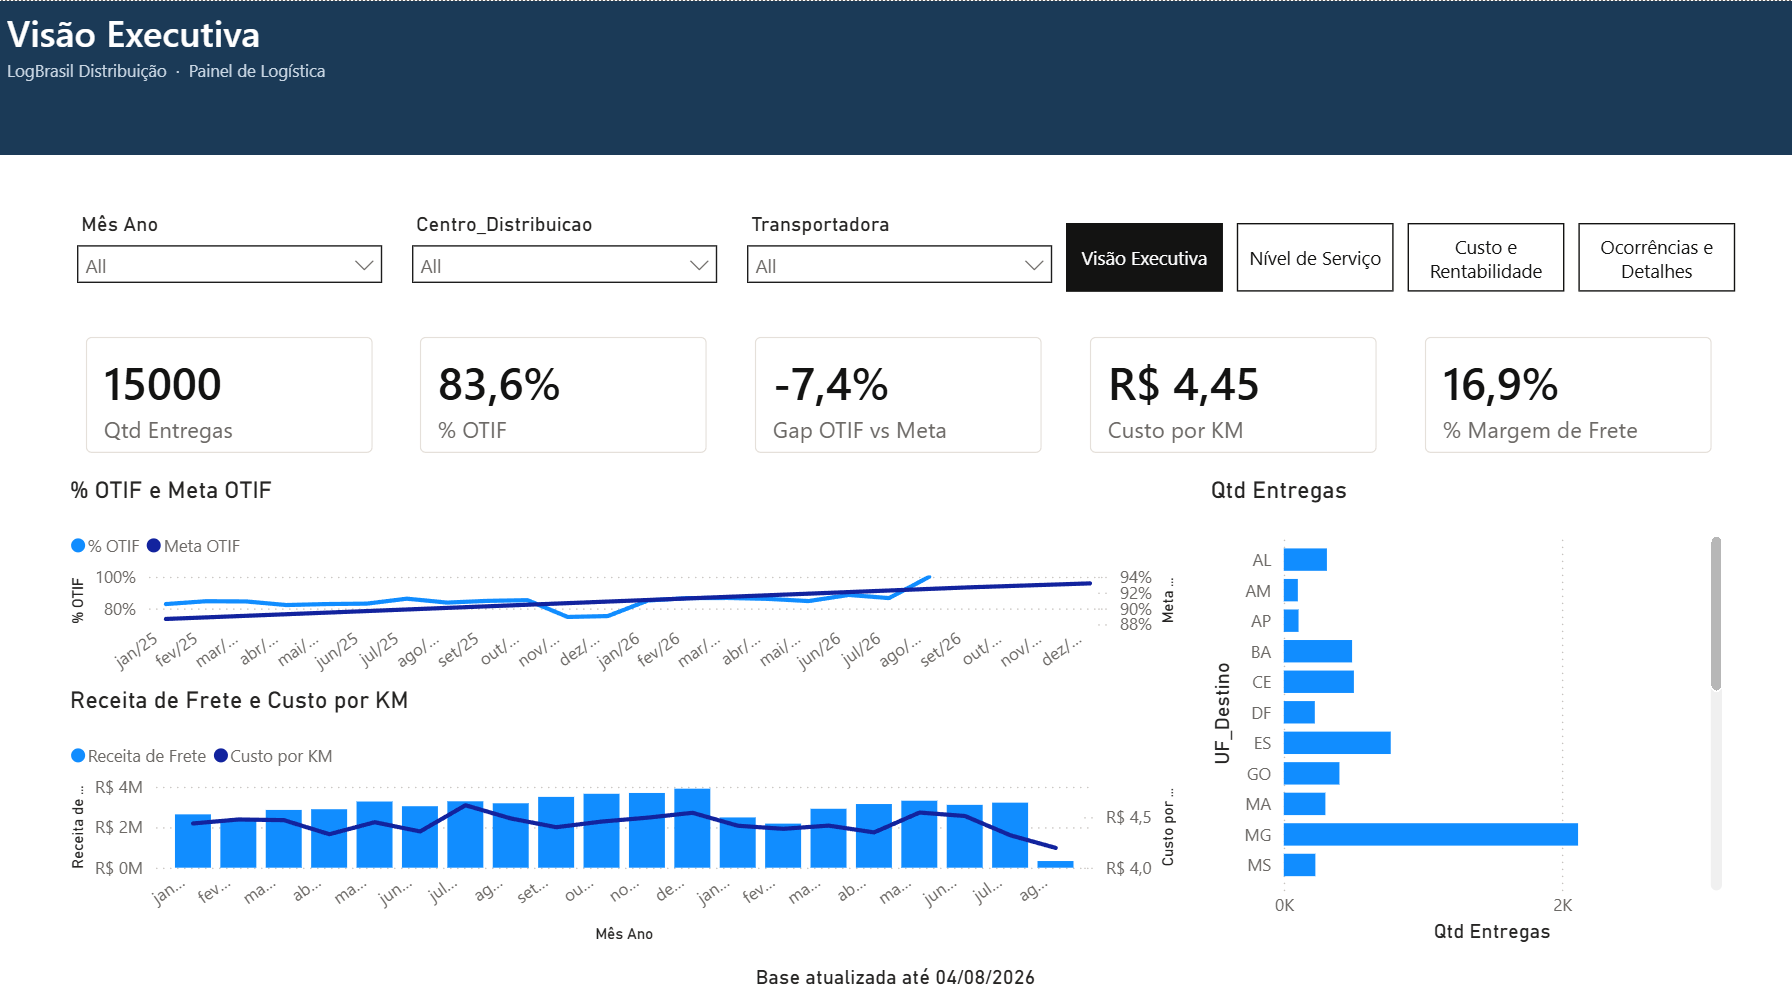

Layout of this report page (visuals, bound fields, positions):
{"tool":"powerbi","page":{"name":"Visão Executiva","canvas":[1280,720],"ordinal":0},"visuals":[{"type":"cardVisual","fields":{"Data":["_Medidas.Qtd Entregas"]},"box":[44.1,223,239.1,117.1],"z":0},{"type":"cardVisual","fields":{"Data":["_Medidas.% OTIF"]},"box":[283.2,223,239.1,117.1],"z":1000},{"type":"cardVisual","fields":{"Data":["_Medidas.Gap OTIF vs Meta"]},"box":[522.3,223,239.1,117.1],"z":2000},{"type":"cardVisual","fields":{"Data":["_Medidas.Custo por KM"]},"box":[761.5,223,239.1,117.1],"z":3000},{"type":"cardVisual","fields":{"Data":["_Medidas.% Margem de Frete"]},"box":[1000.6,223,239.1,117.1],"z":4000},{"type":"lineChart","title":"% OTIF e Meta OTIF","fields":{"Category":["dCalendario.Mês Ano"],"Y":["_Medidas.% OTIF"],"Y2":["_Medidas.Meta OTIF"]},"box":[44.8,339.4,800,149.9],"z":5000},{"type":"lineStackedColumnComboChart","title":"Receita de Frete e Custo por KM","fields":{"Category":["dCalendario.Mês Ano"],"Y":["_Medidas.Receita de Frete"],"Y2":["_Medidas.Custo por KM"]},"box":[44.8,489.3,800,187.8],"z":6000},{"type":"slicer","fields":{"Values":["dCalendario.Mês Ano"]},"box":[44.8,146.4,237.7,75.8],"z":7000},{"type":"slicer","fields":{"Values":["dCentroDistribuicao.Centro_Distribuicao"]},"box":[284.3,146.4,237.7,75.8],"z":8000},{"type":"slicer","fields":{"Values":["dTransportadora.Transportadora"]},"box":[523.7,146.4,237.7,75.8],"z":9000},{"type":"pageNavigator","box":[761.5,158.5,478.9,50],"z":10000},{"type":"card","fields":{"Values":["_Medidas.Data da Última Atualização"]},"box":[44,683,1191,30],"z":11000},{"type":"barChart","title":"Qtd Entregas","fields":{"Category":["dDestino.UF_Destino"],"Y":["_Medidas.Qtd Entregas"]},"box":[860,339,375,338],"z":12000},{"type":"textbox","box":[0,0,1280,110],"z":13000}]}

Visuals, with their boxes in screenshot pixels (x1, y1, x2, y2), scaled from the page's 1280x720 canvas onto the 1792x1007 screenshot:
cardVisual - _Medidas.Qtd Entregas: (62,312,396,476)
cardVisual - _Medidas.% OTIF: (396,312,731,476)
cardVisual - _Medidas.Gap OTIF vs Meta: (731,312,1066,476)
cardVisual - _Medidas.Custo por KM: (1066,312,1401,476)
cardVisual - _Medidas.% Margem de Frete: (1401,312,1736,476)
"% OTIF e Meta OTIF" lineChart: (63,475,1183,684)
"Receita de Frete e Custo por KM" lineStackedColumnComboChart: (63,684,1183,947)
slicer - dCalendario.Mês Ano: (63,205,396,311)
slicer - dCentroDistribuicao.Centro_Distribuicao: (398,205,731,311)
slicer - dTransportadora.Transportadora: (733,205,1066,311)
pageNavigator: (1066,222,1737,292)
card - _Medidas.Data da Última Atualização: (62,955,1729,997)
"Qtd Entregas" barChart: (1204,474,1729,947)
textbox: (0,0,1791,154)
